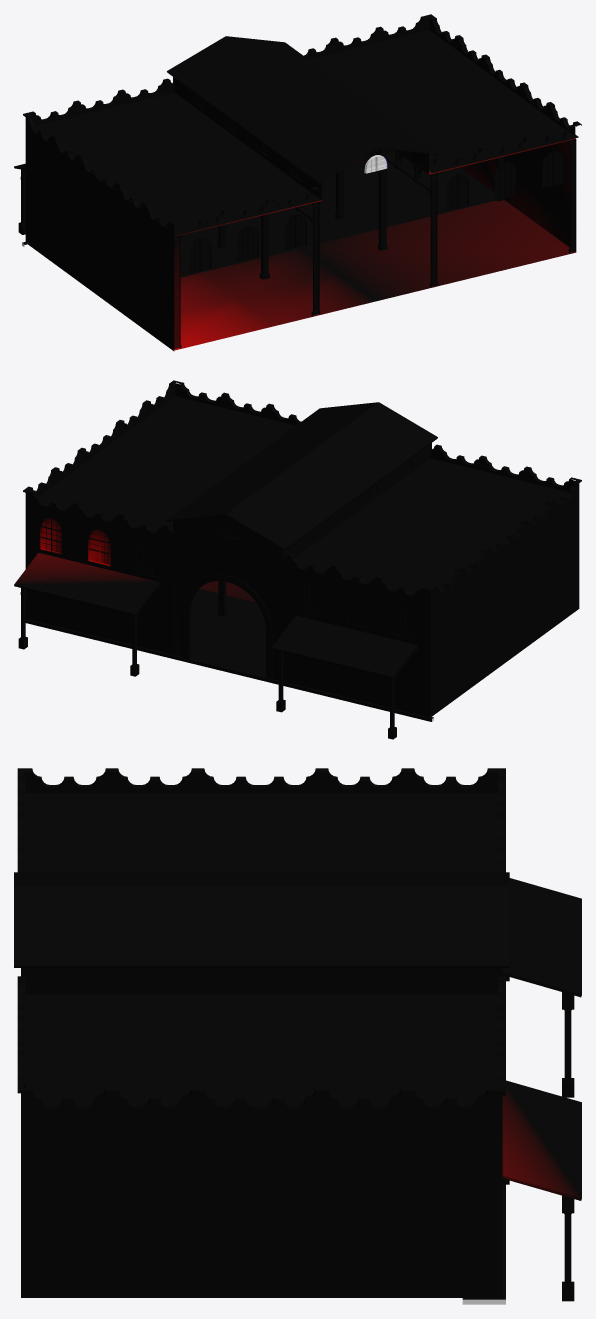
The model's file is market_lod0.fbx.
The picture shows the model from 3 angles, top to bottom: view 1: azimuth 30°, elevation 25°; view 2: azimuth 150°, elevation 25°; view 3: azimuth 270°, elevation 25°; orthographic projection. The views are drawn at different scales.
Visible parts, largest first — view 1: Market_front_lod0; view 2: Market_front_lod0; view 3: Market_front_lod0.
Boxes of the visible parts, <box> form: Market_front_lod0: <box>14,14,581,351</box>; Market_front_lod0: <box>14,380,581,739</box>; Market_front_lod0: <box>14,768,581,1304</box>.
Size of the model in its own units: 27.81 by 10.72 by 20.63.
